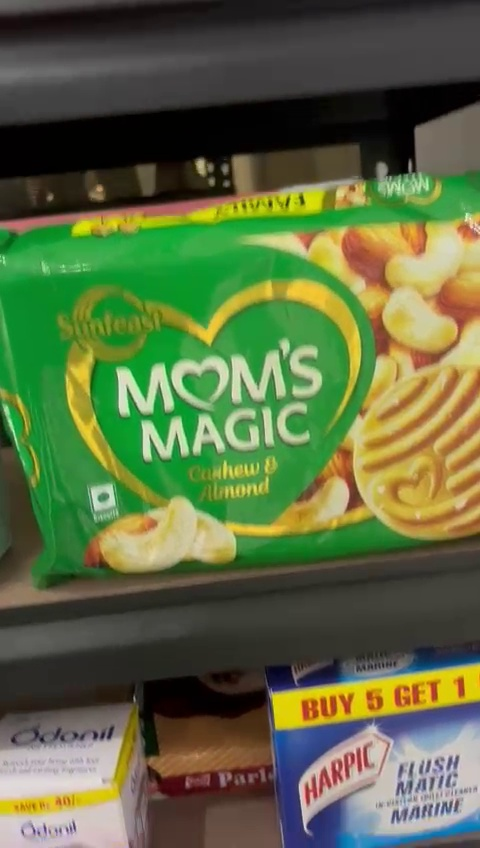Moms magic: (9, 188, 480, 570)
